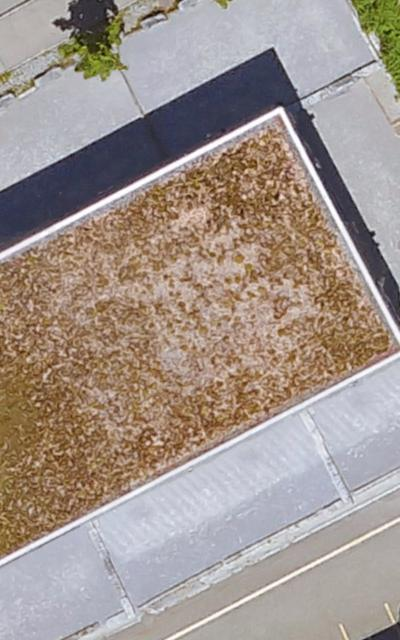tree: (60, 24, 124, 77)
